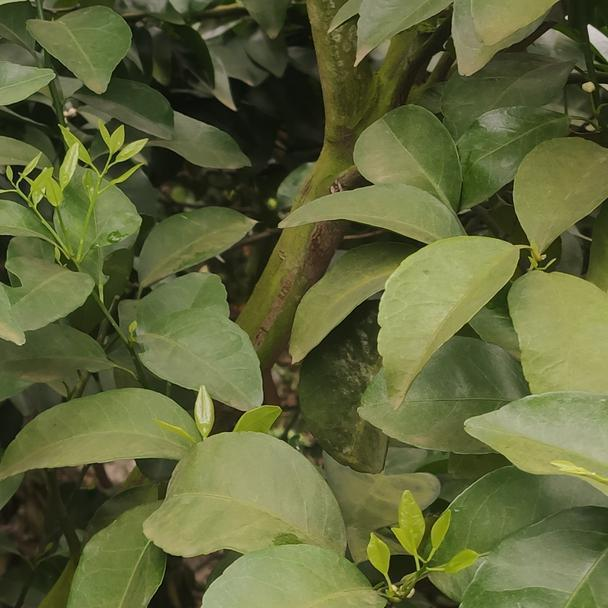shoot: (371, 498, 473, 595), (67, 122, 146, 216), (1, 152, 53, 231)
